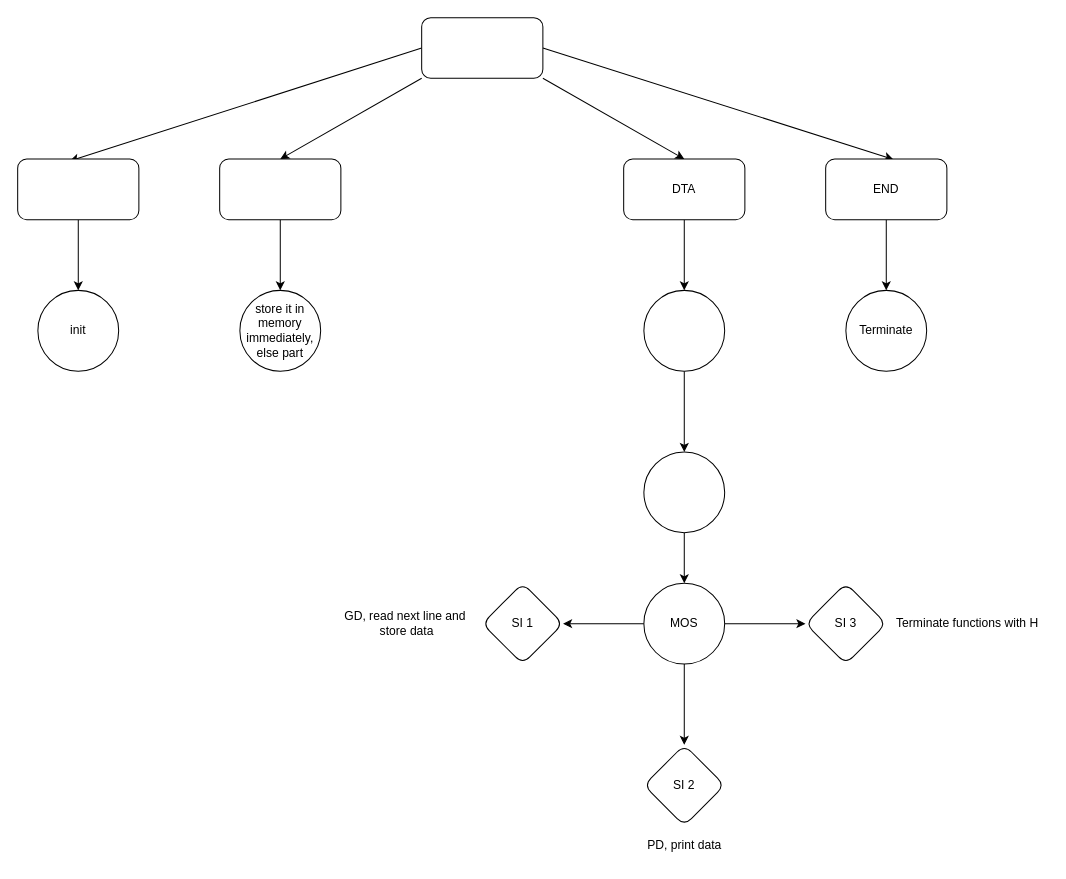
Some shapes in this 1066 by 879 pixel diagram are drawn without their labels. Each missing label, with the centre of its shape:
"$AMJ" goes at (x=78, y=189).
"Define all instructions" goes at (x=684, y=492).
"execute user program" goes at (x=684, y=330).
"Instructions" goes at (x=280, y=189).
"JOB CARD" goes at (x=482, y=47).
